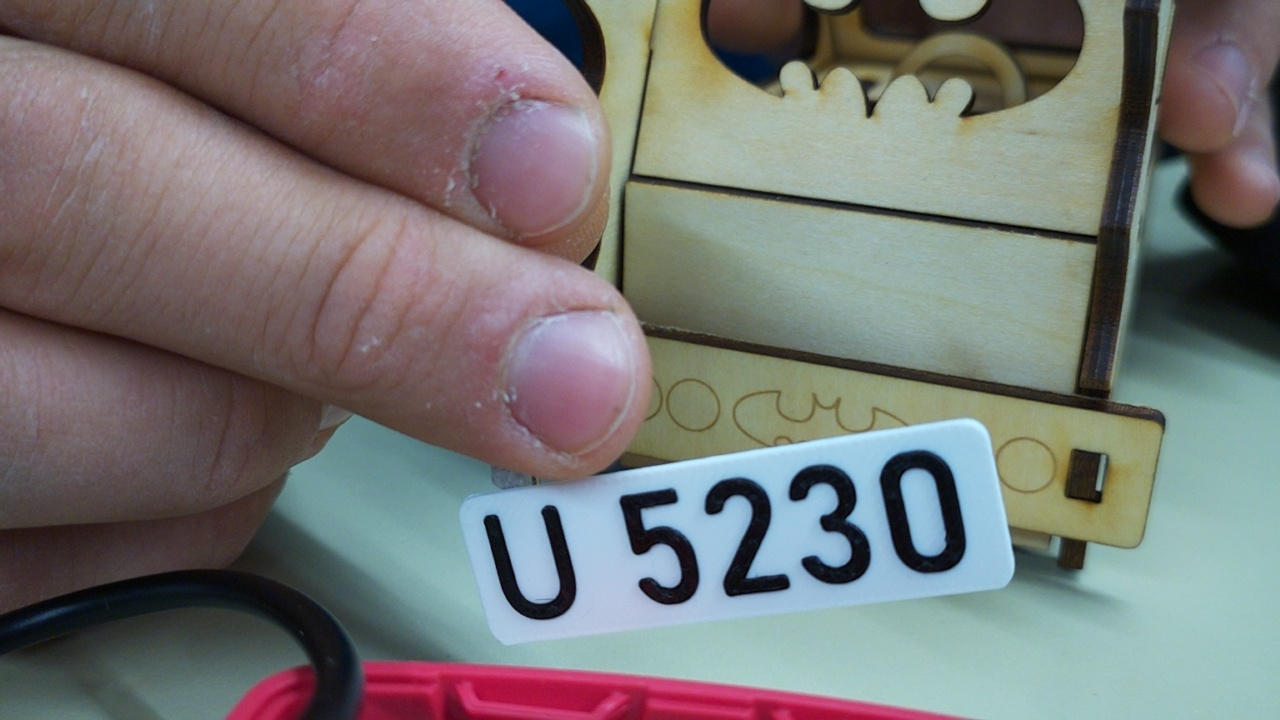license_plate: (454, 413, 1022, 649)
